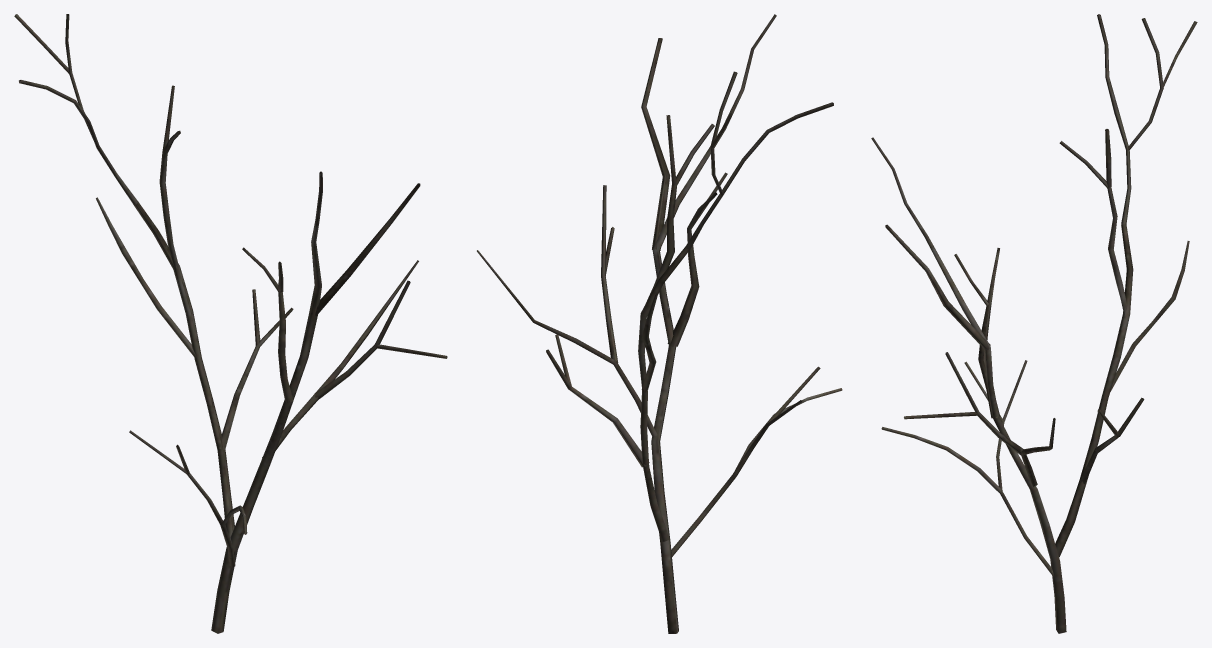
The model's file is Bush3-3.fbx.
3 renders of one model, left to right at view 1: azimuth 30°, elevation 25°; view 2: azimuth 150°, elevation 25°; view 3: azimuth 270°, elevation 25°, orthographic. The views are drawn at different scales.
Parts seen in each view (by area): view 1: Bush3-3_LOD0; view 2: Bush3-3_LOD0; view 3: Bush3-3_LOD0.
Part boxes in pixels (<box>): Bush3-3_LOD0: <box>14,14,447,633</box>; Bush3-3_LOD0: <box>477,14,842,633</box>; Bush3-3_LOD0: <box>871,14,1197,633</box>.
Size of what is drawn, in the model's own units: 1.28 by 1.04 by 1.98.
